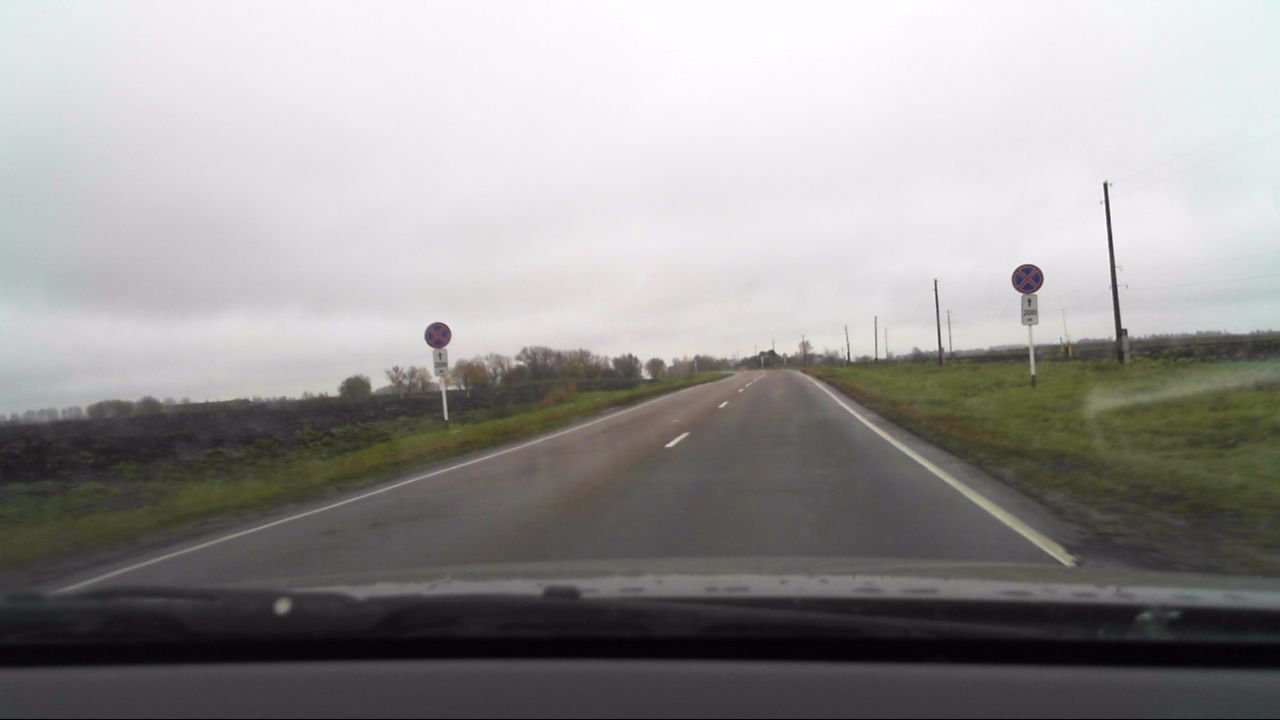No Parking: (423, 319, 452, 346)
